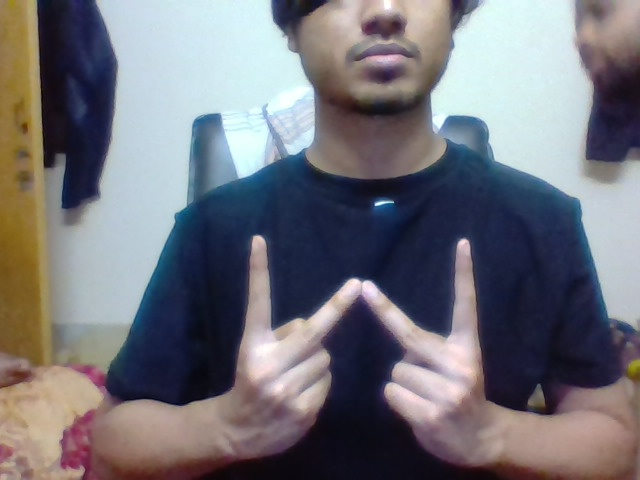W: (242, 228, 489, 349)
